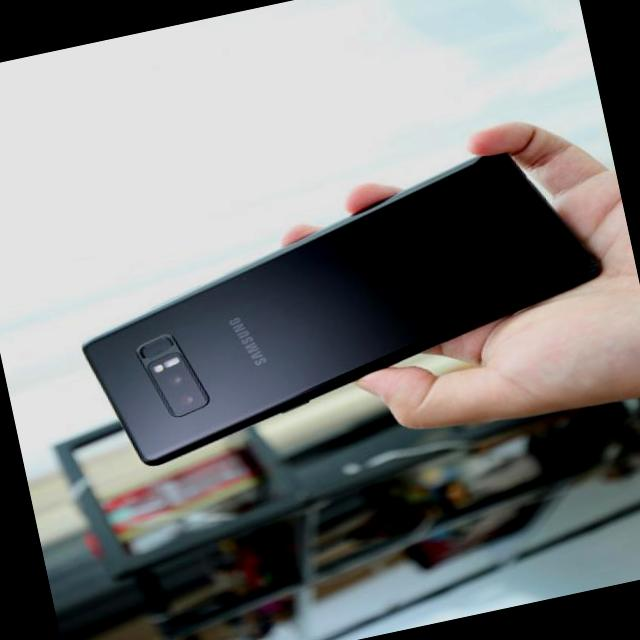lens_back: (164, 381, 202, 413), (162, 364, 190, 391)
phone: (56, 127, 624, 477)
